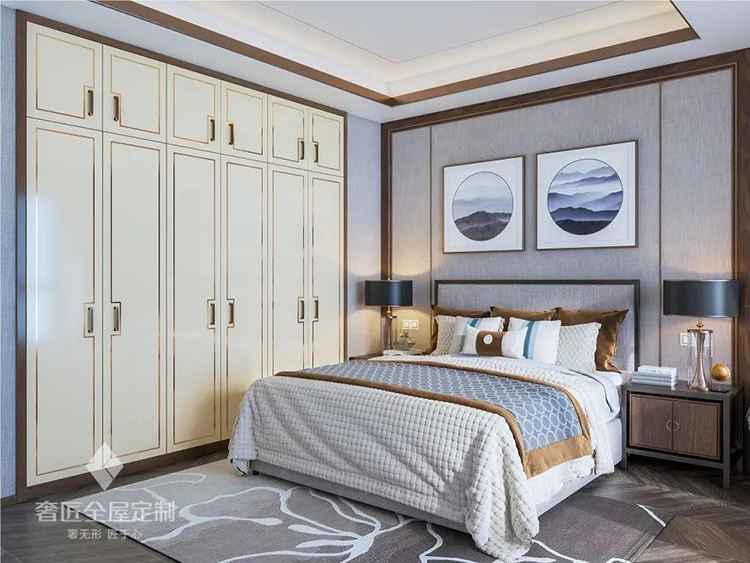床: (234, 345, 626, 545)
枕头: (434, 311, 618, 375)
灯: (661, 274, 736, 393), (359, 278, 409, 358)
